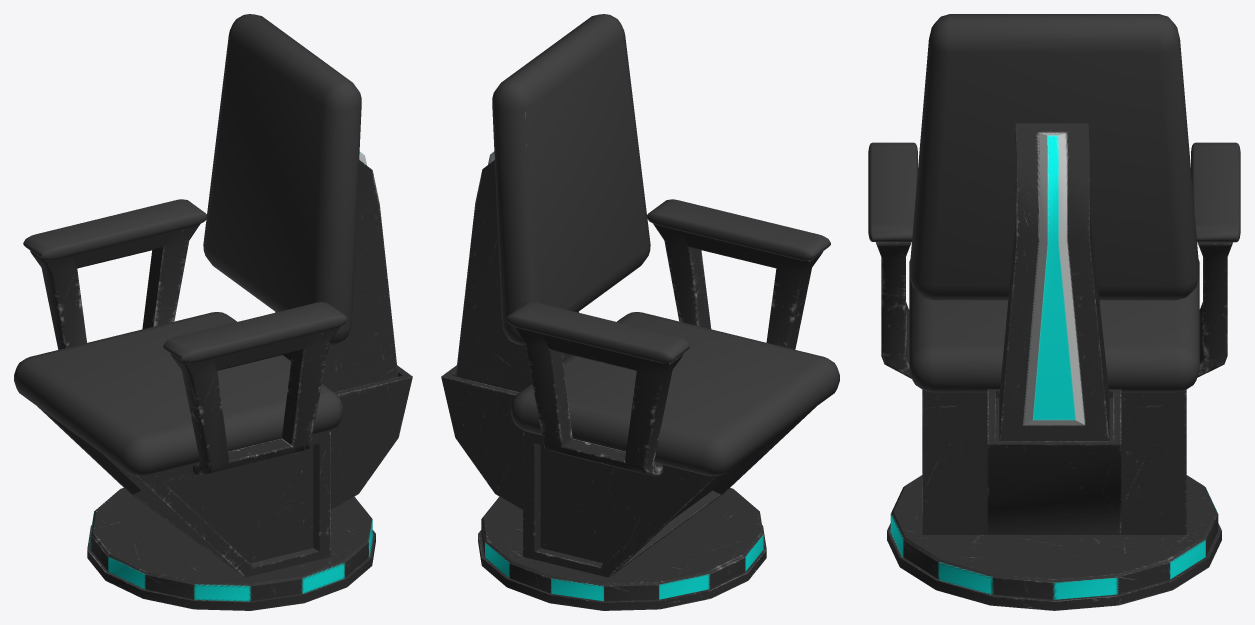
The model's file is ScifiChair.fbx.
3 renders of one model, left to right at view 1: azimuth 30°, elevation 25°; view 2: azimuth 150°, elevation 25°; view 3: azimuth 270°, elevation 25°, orthographic. The views are drawn at different scales.
Parts seen in each view (by area): view 1: Chair; view 2: Chair; view 3: Chair.
Part boxes in pixels (x1=…): Chair: x1=14, y1=14, x2=412, y2=610; Chair: x1=441, y1=14, x2=839, y2=610; Chair: x1=868, y1=14, x2=1240, y2=610.
Size of the model in its own units: 296 by 437 by 264.
1 material, 1 textured.
